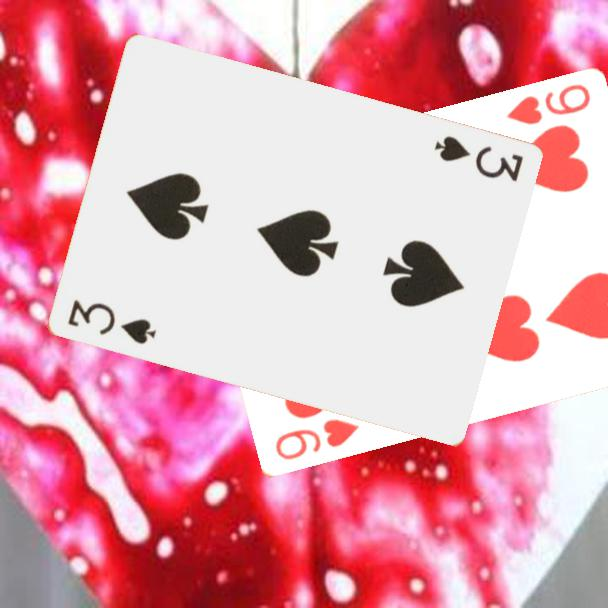h09: (271, 415, 362, 464), (502, 81, 593, 129)
s03: (430, 132, 526, 185), (63, 296, 159, 348)
